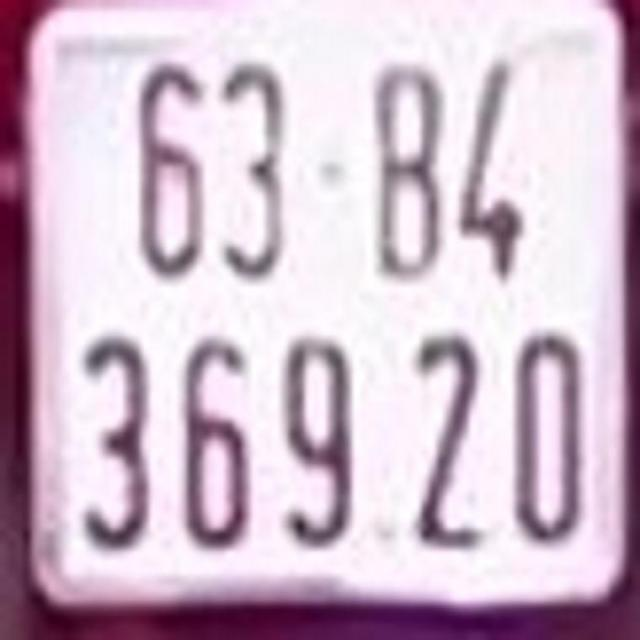0: (516, 326, 584, 554)
2: (408, 332, 494, 551)
3: (81, 336, 151, 554), (218, 54, 281, 284)
4: (464, 60, 534, 294)
6: (134, 60, 208, 271), (183, 331, 249, 543)
9: (284, 338, 352, 545)
B: (368, 66, 444, 277)
